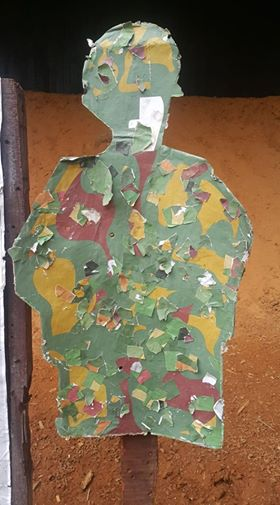Bullet: (108, 232, 114, 240), (117, 365, 124, 371)
